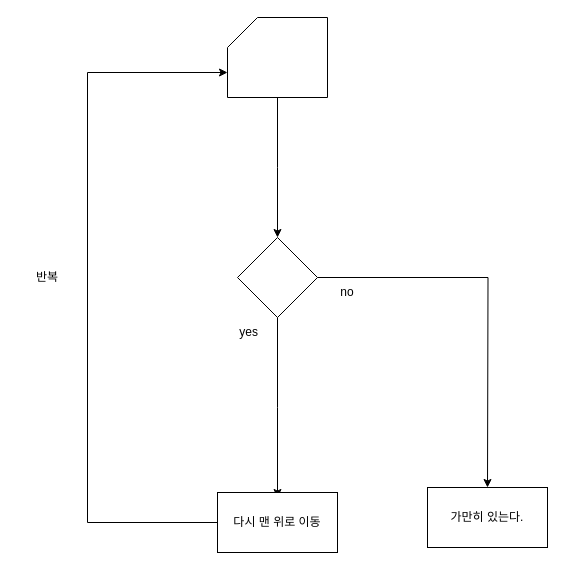
This 565x570 diagram has some shape labels left out. The shapes that lost their labels are listed below. From the top down, each one's centre as x and y in pixels, then its label:
the point at 277,57: 스크롤
the point at 277,277: 맨끝에 도달
